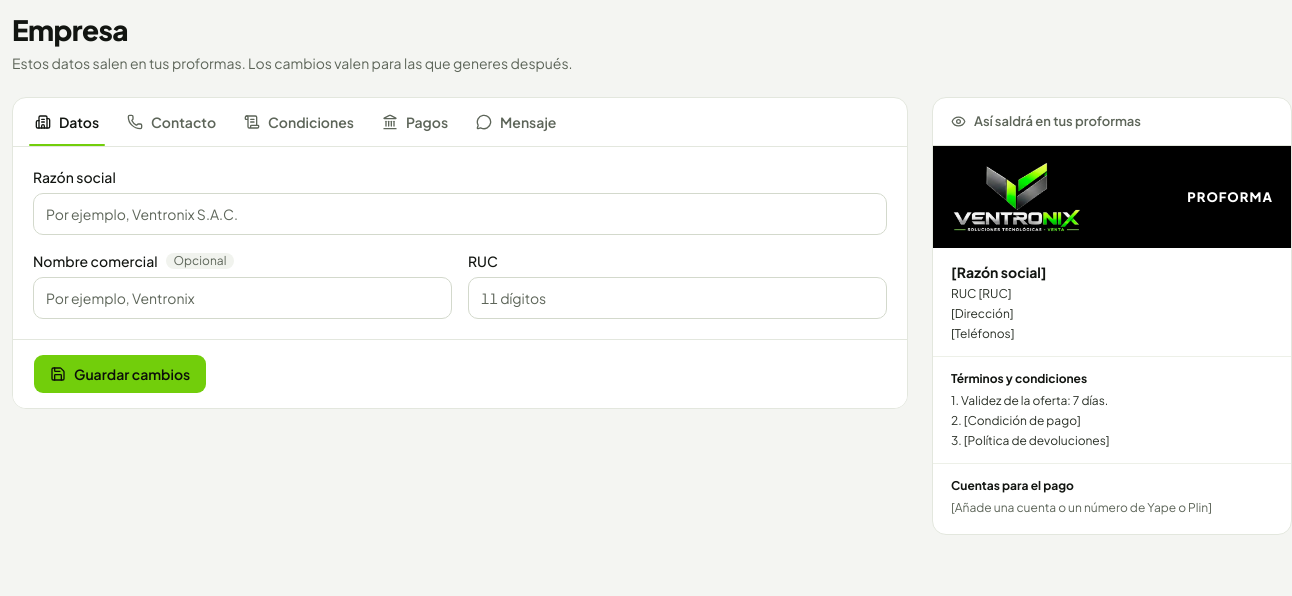
Scenario: CompanyForm › al guardar con datos pendientes lleva al primer error y marca las secciones
This screenshot has width=1292, height=596.
Click the tab "Pagos": (415, 122) [368,98,462,146]
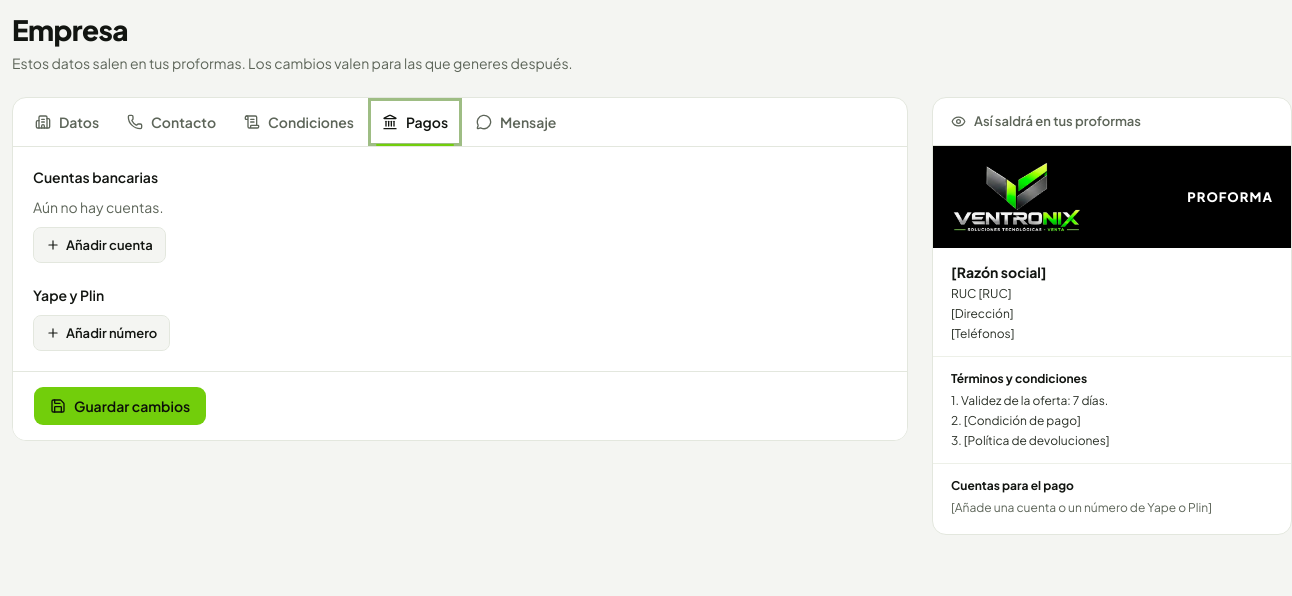
Click the button "Guardar cambios": (120, 406) [33,386,207,426]
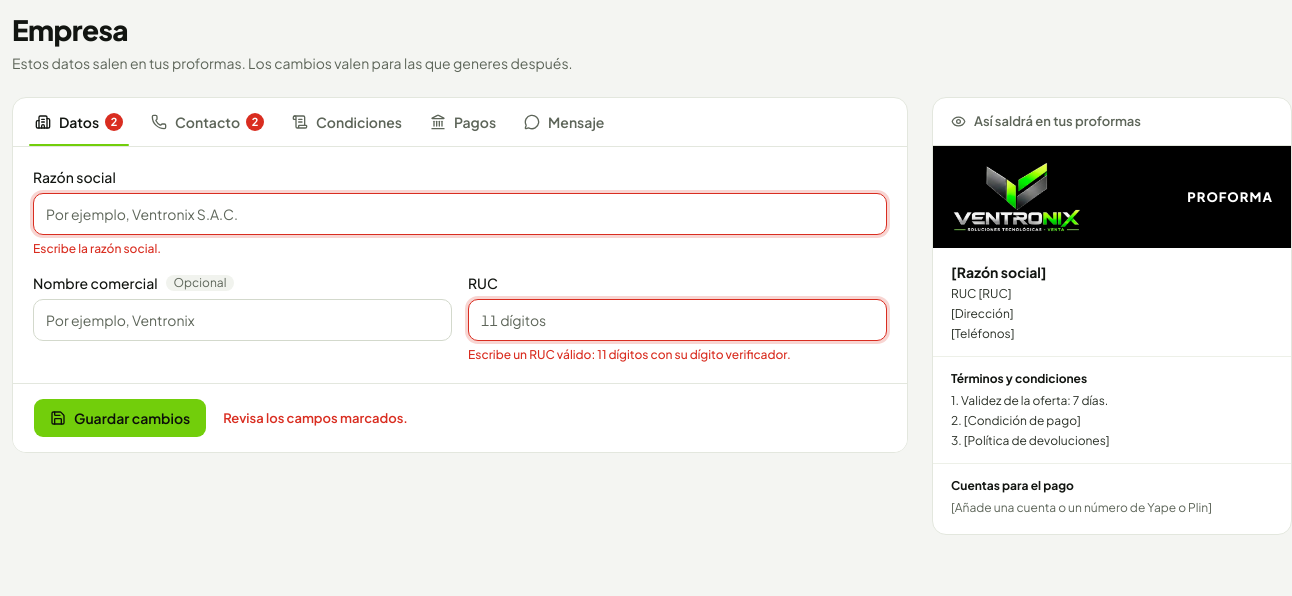
Expected: the text "Escribe la razón social." is shown, [33,241,161,256]
Expected: the message reads "Revisa los campos marcados.", [223,410,408,426]
Click the tab "Contacto 2": (208, 122) [137,98,278,146]
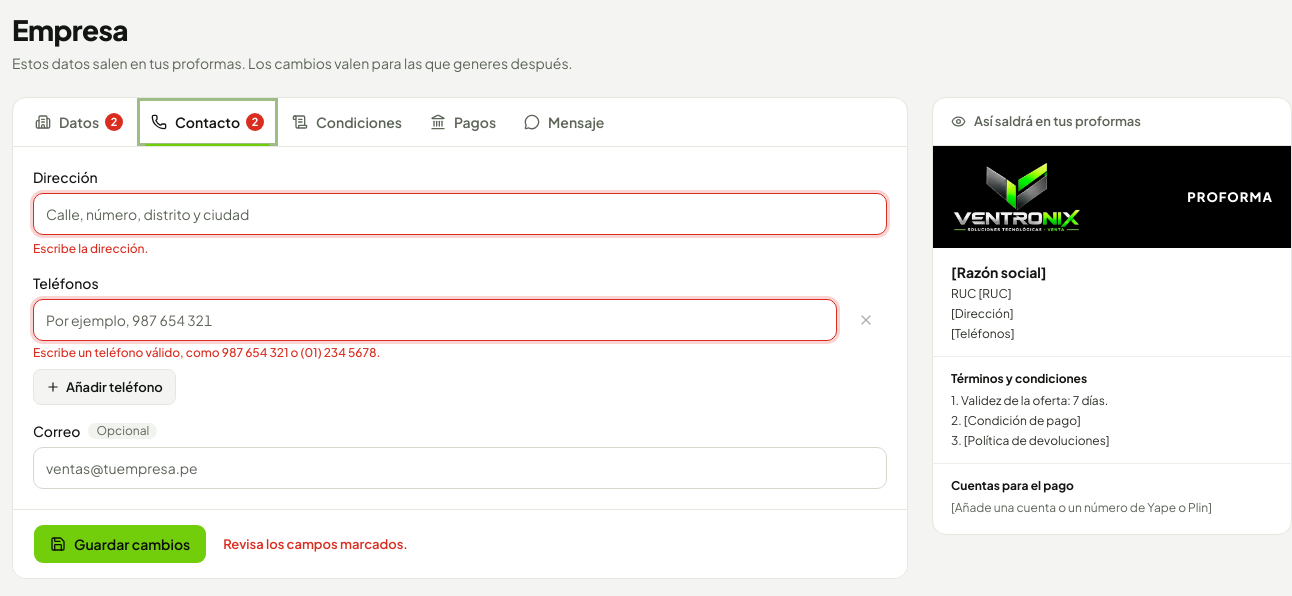
Expected: the text "Escribe la dirección." is shown, [33,241,148,256]
